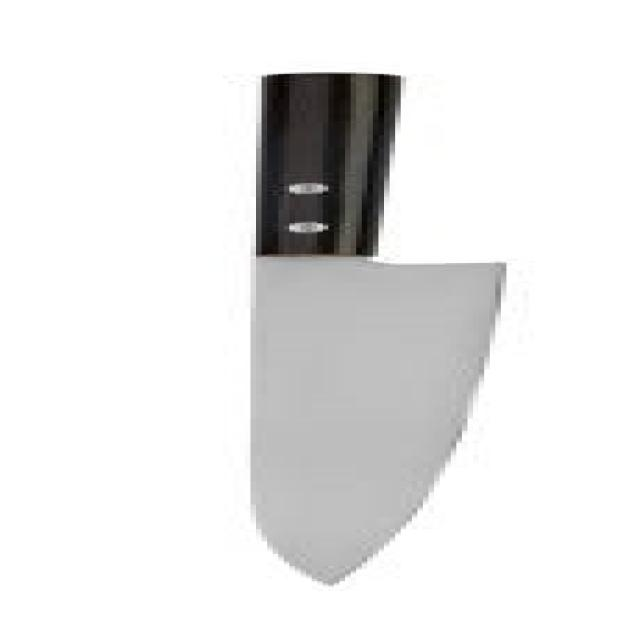knife: (201, 70, 522, 593)
